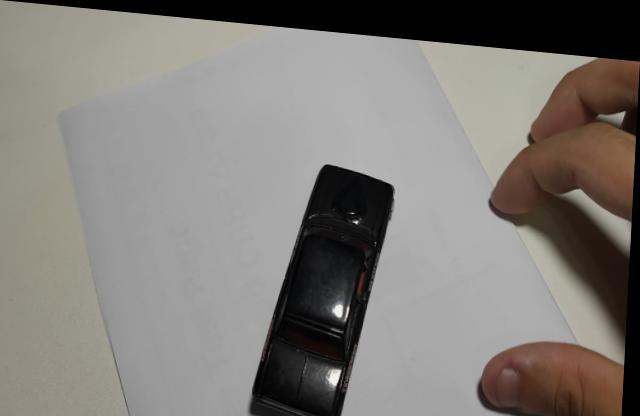01_FORD: (252, 160, 398, 416)
